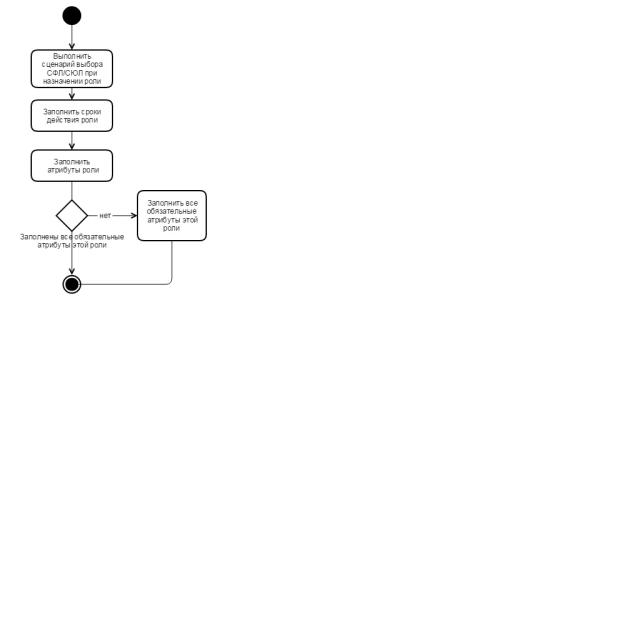arrow: (88, 210, 136, 220), (66, 235, 76, 275), (68, 24, 76, 50), (68, 131, 75, 149), (68, 88, 76, 100)
circle: (63, 275, 81, 293), (63, 7, 81, 25)
diamond: (57, 200, 87, 231)
rectangle: (137, 190, 206, 241), (31, 50, 113, 88), (31, 150, 113, 181), (31, 100, 113, 131)
text_region: (20, 233, 125, 251)
